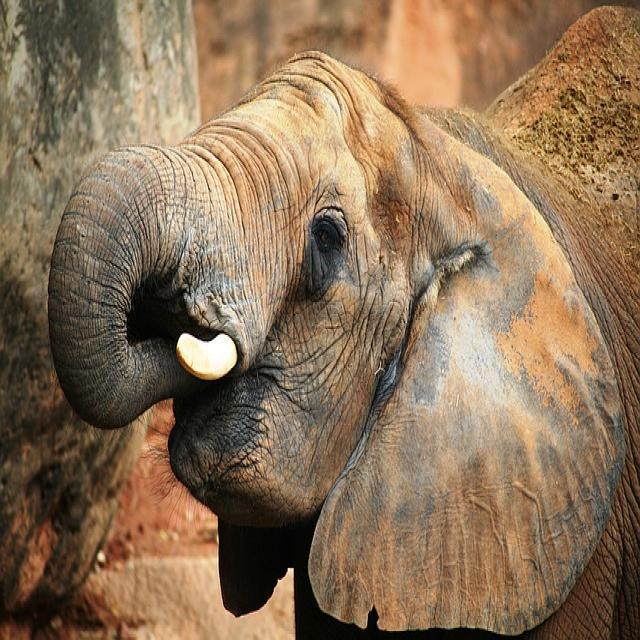elephant: (49, 8, 640, 638)
